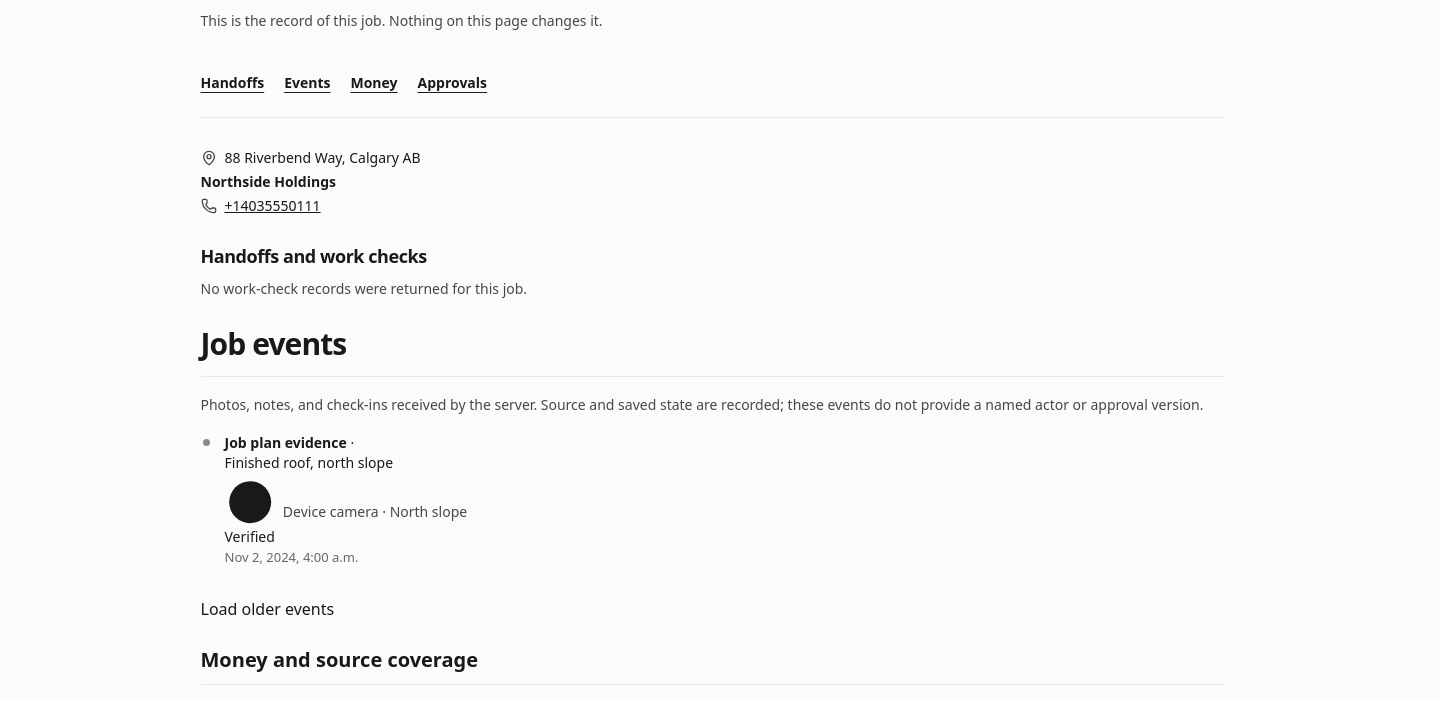
Test: retains paginated events with an explicit limit when a background refresh fails
Click the button "Load older events" at (267, 610), box [200,598,334,622]
(page scrolled)
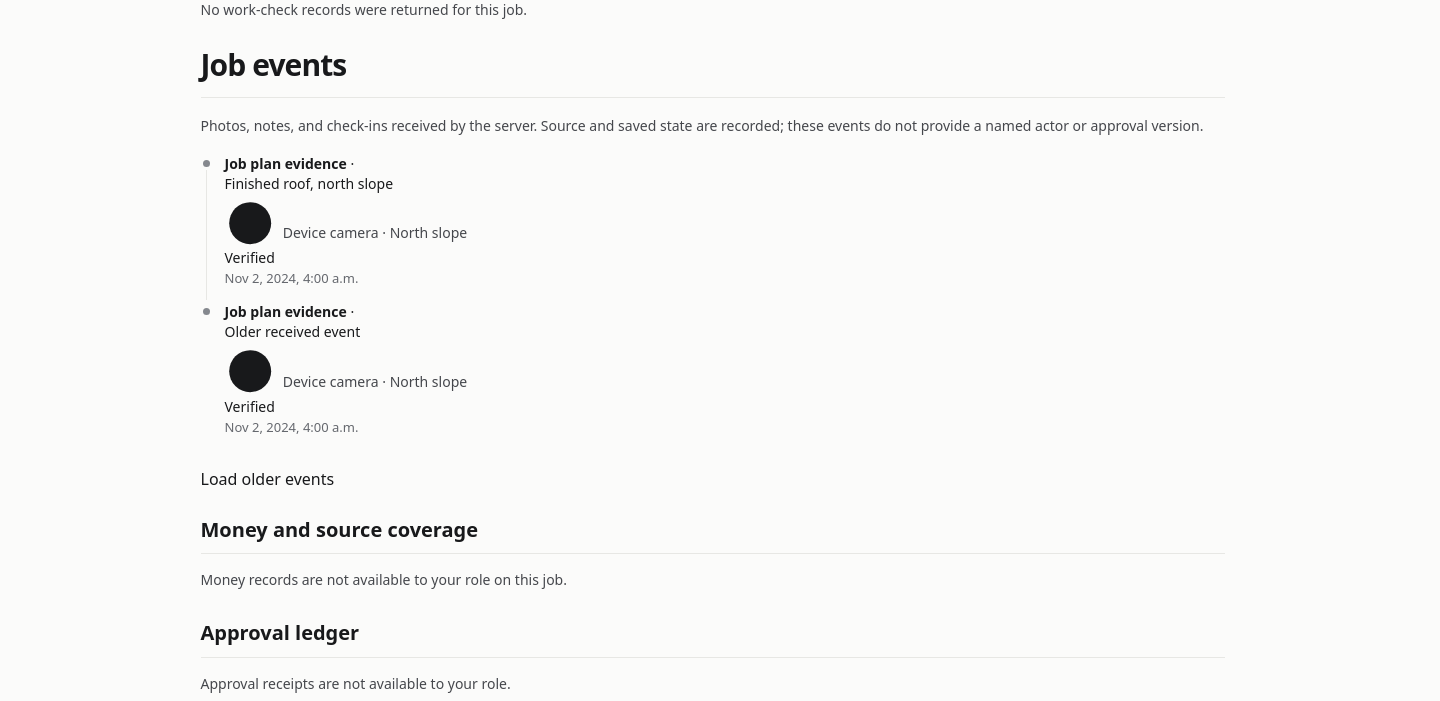
expect the button "Load older events" is enabled: met, box [200,467,334,491]
expect the text "Older received event" is shown: met, box [224,322,360,342]
